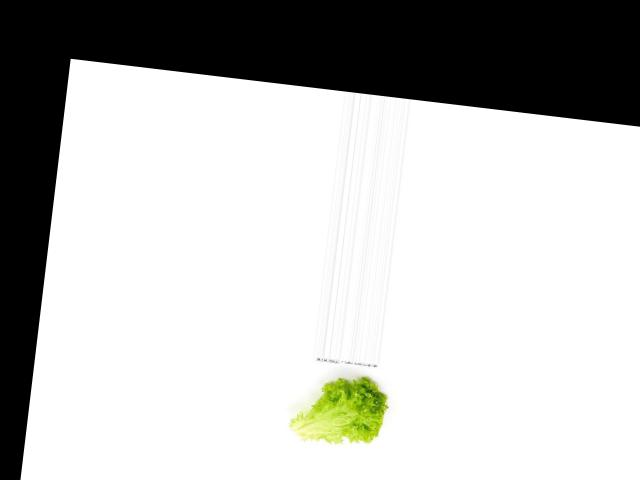lettuce: (288, 368, 395, 453)
